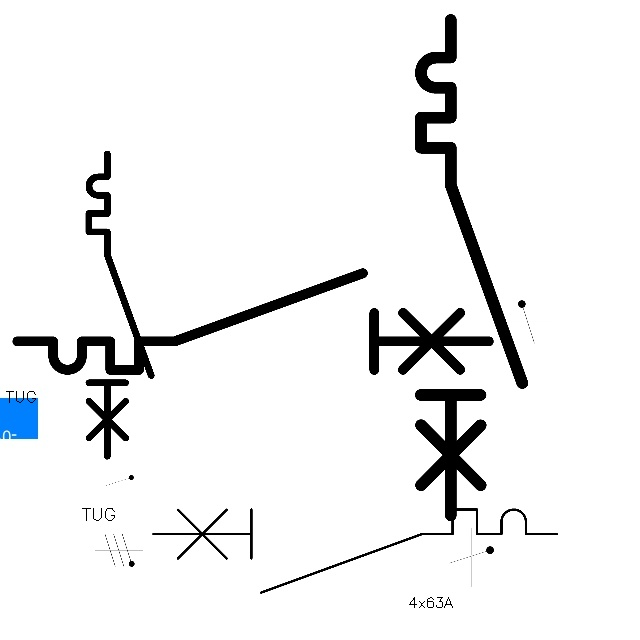interruptor_termomagnetico: (408, 7, 535, 528), (5, 261, 501, 382), (143, 499, 567, 603), (81, 146, 159, 464)
